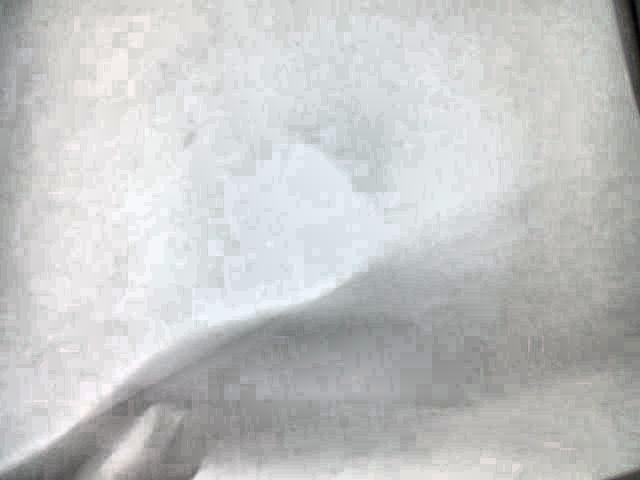Paper: (1, 0, 640, 479)
